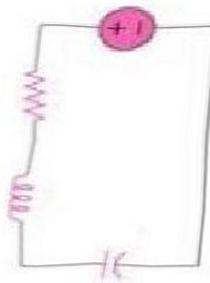Battery: (89, 0, 177, 70)
